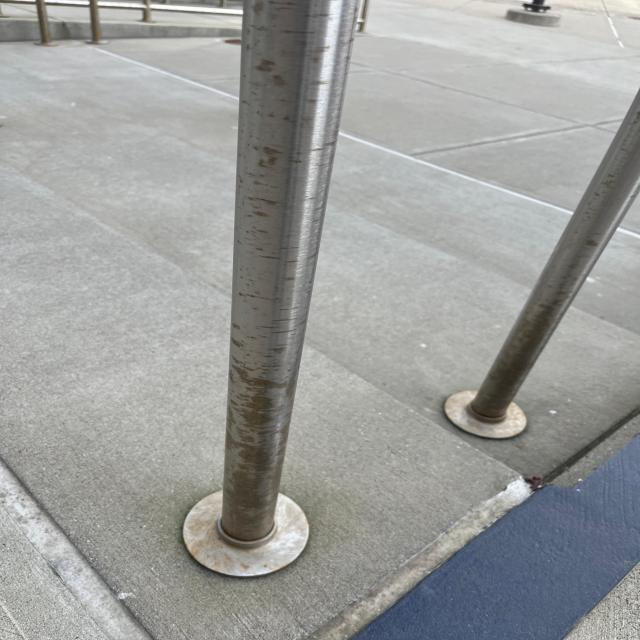Uniform Corrosion: (220, 1, 318, 548), (469, 242, 573, 424), (184, 491, 310, 578)
